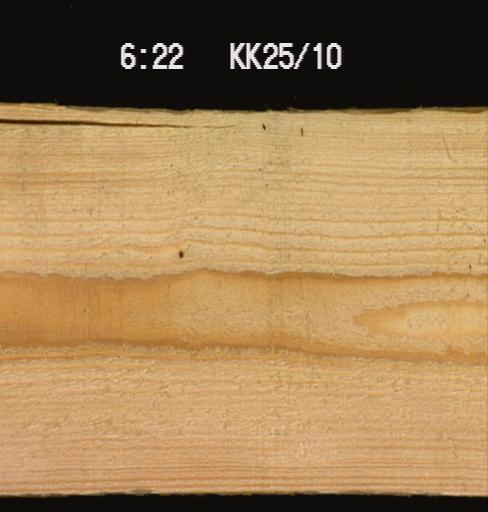small_knot: (173, 246, 188, 262)
split: (0, 110, 240, 132)
